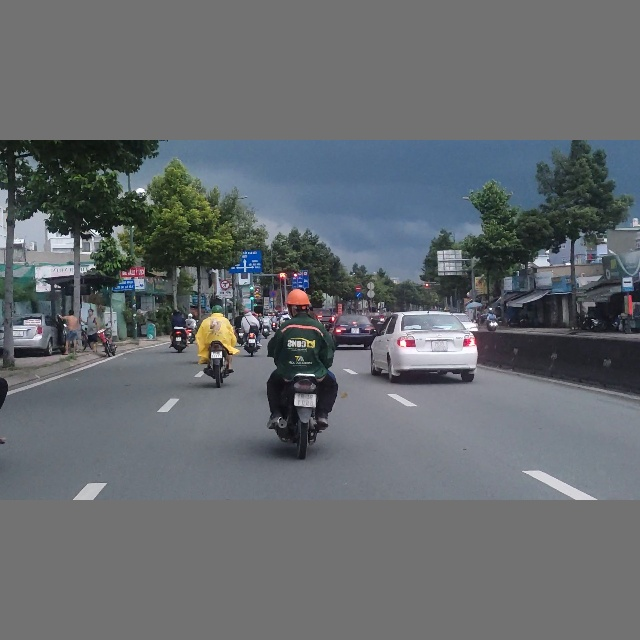I.434a: (622, 277, 633, 291)
P.102: (356, 285, 361, 291)
P.137: (220, 280, 230, 289)
R.302a: (356, 292, 362, 298)
R.415a: (293, 275, 309, 289)
